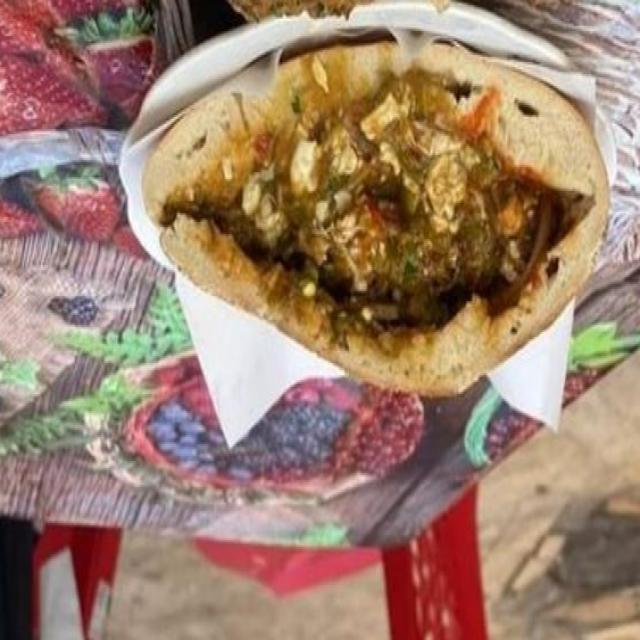Sandwitch tounsi: (137, 50, 603, 378)
